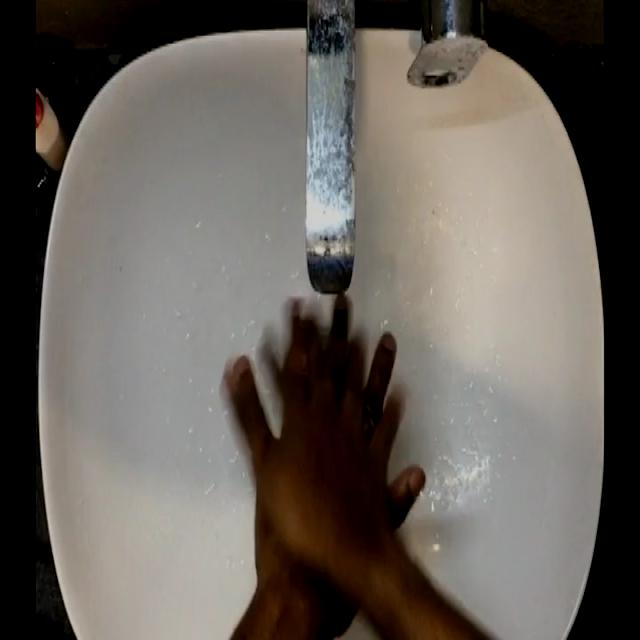step_2: (214, 284, 433, 584)
